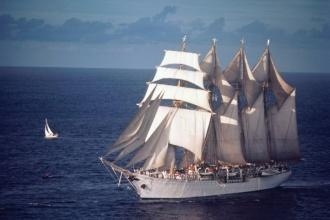fanchuan: (99, 40, 301, 200), (38, 117, 61, 142)
